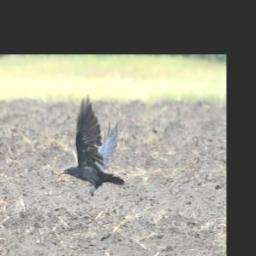Crow: (59, 92, 126, 198)
